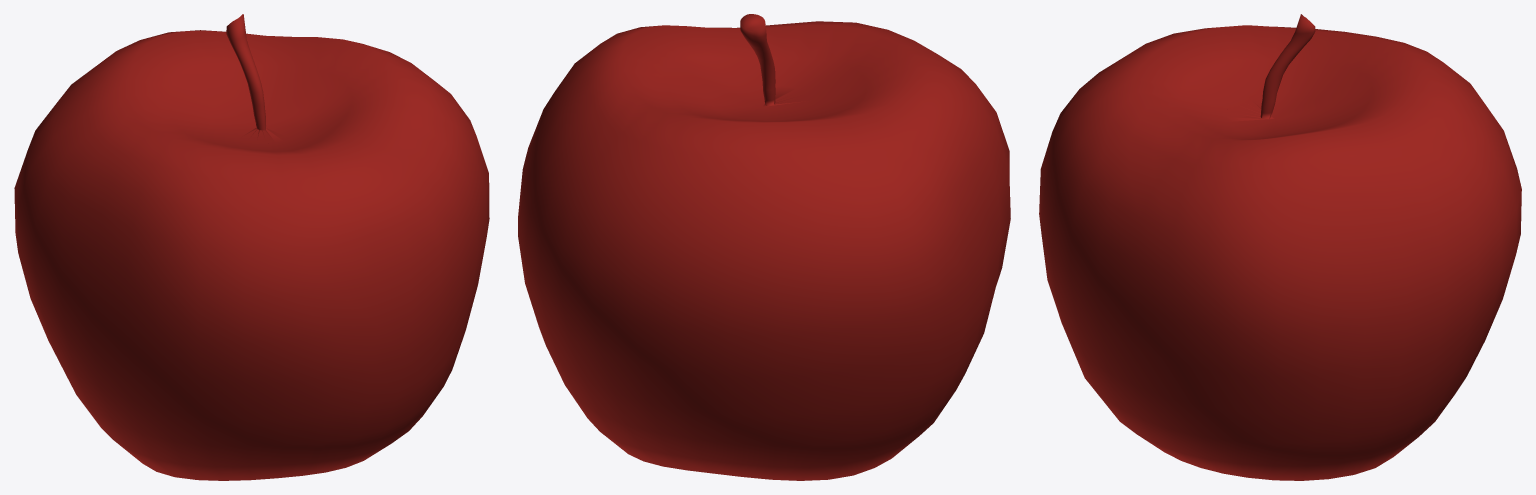
The model's file is Apfel_neu.fbx.
3 views of the same model, side by side, from view 1: azimuth 30°, elevation 25°; view 2: azimuth 150°, elevation 25°; view 3: azimuth 270°, elevation 25° (orthographic). The views are drawn at different scales.
Parts seen in each view (by area): view 1: Apfel; view 2: Apfel; view 3: Apfel.
Part boxes in pixels (<box>): Apfel: <box>14,14,489,480</box>; Apfel: <box>518,14,1010,480</box>; Apfel: <box>1039,14,1521,480</box>.
Size of the model in its own units: 7.29 by 6.93 by 7.41.
